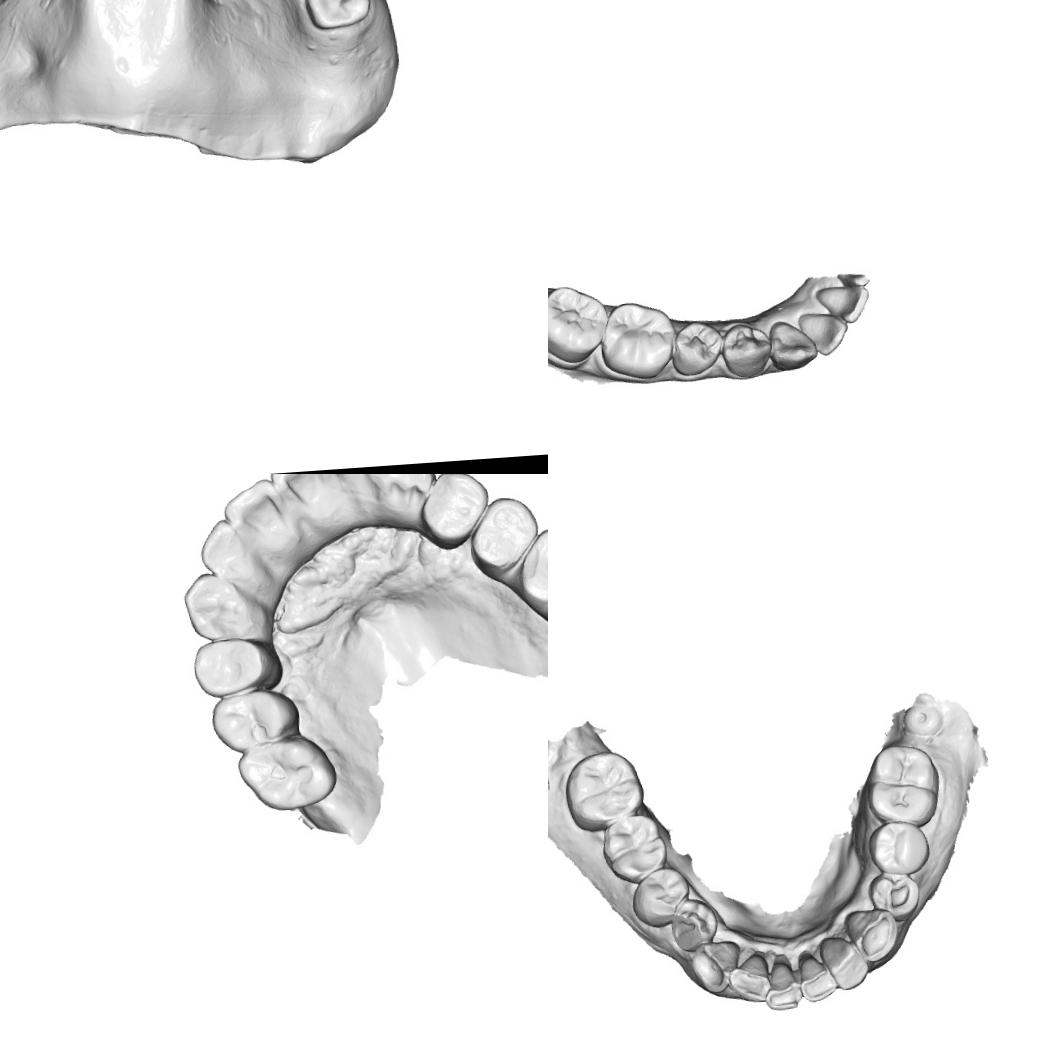canine: (179, 570, 256, 642), (842, 905, 900, 967), (684, 936, 742, 995), (767, 316, 819, 371), (376, 474, 436, 515)
implant: (900, 700, 941, 739)
incisor: (219, 474, 287, 540), (196, 516, 250, 582), (761, 951, 804, 1012), (796, 310, 850, 358), (722, 950, 770, 1004), (824, 936, 870, 992), (814, 282, 871, 325), (795, 948, 838, 1004), (269, 474, 335, 502), (320, 474, 382, 493)
molar: (233, 734, 340, 814), (861, 738, 942, 829), (564, 747, 647, 832), (596, 297, 678, 382), (208, 687, 302, 755), (599, 811, 673, 886), (548, 282, 611, 366), (512, 521, 548, 630), (299, 0, 375, 30)
premolar: (467, 492, 538, 579), (188, 635, 284, 697), (416, 474, 490, 550), (867, 817, 930, 876), (632, 866, 692, 927), (718, 319, 774, 380), (664, 894, 722, 952), (670, 318, 724, 378), (868, 868, 920, 921)
